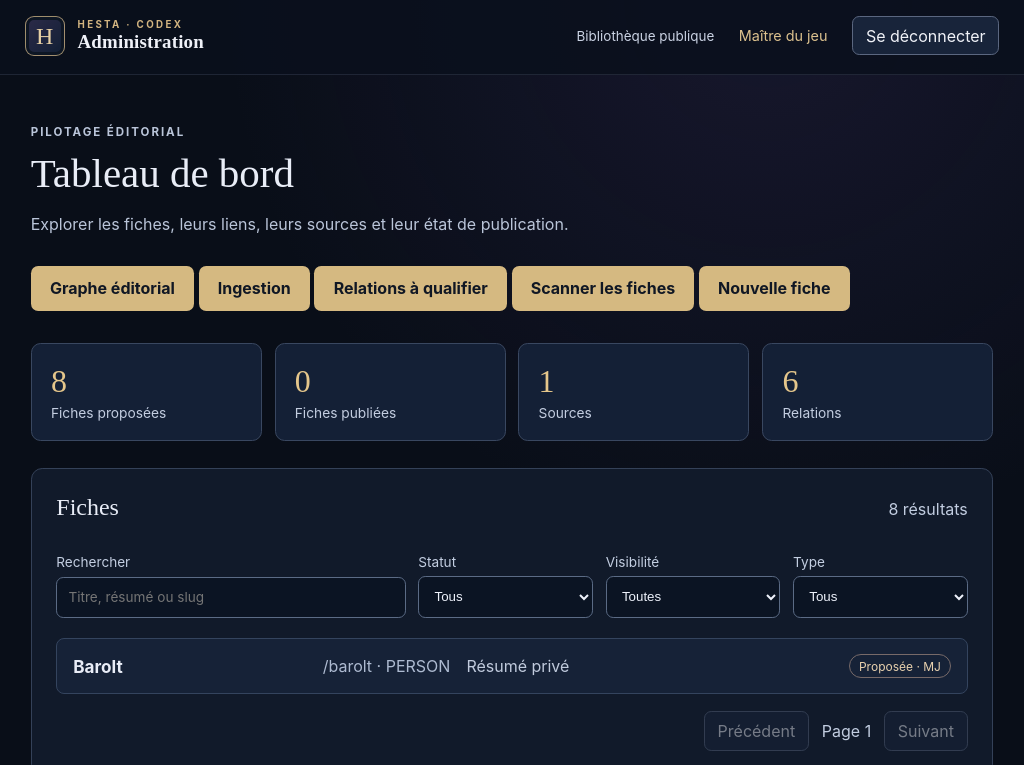
administration en lecture seule › ouvre une fiche privée avec contenu, Source, Evidence, relation et Revision
The image size is (1024, 765).
What coordinates should you click on to do the following:
click the link "Barolt /barolt · PERSON Résumé privé Proposée · MJ"
I would click on:
 (512, 666)
Its box is [56, 638, 968, 694].
(page scrolled)
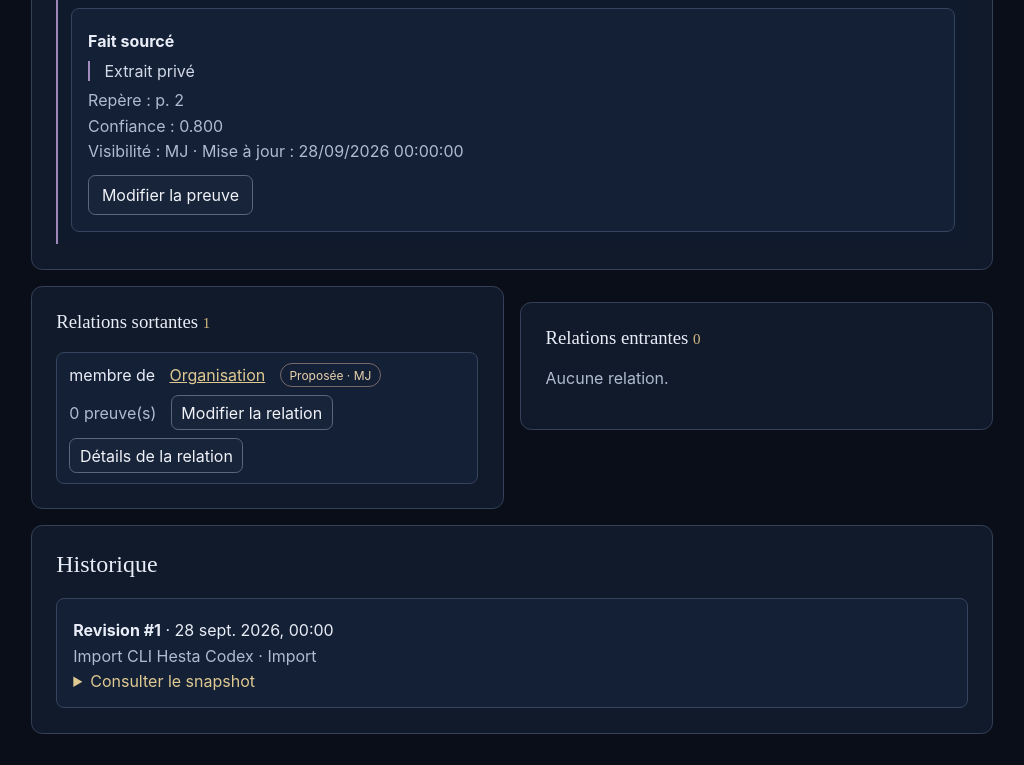
Expected: the text "Fait sourcé" is shown, [88, 31, 174, 51]
Expected: the heading "Relations sortantes 1" is shown, [56, 311, 210, 332]
Expected: the link "Organisation" is shown, [170, 365, 265, 385]
What coordinates should you click on to do the following:
click the heading "Consulter le snapshot"
I would click on:
 (173, 681)
Its box is [90, 671, 255, 691].
(page scrolled)
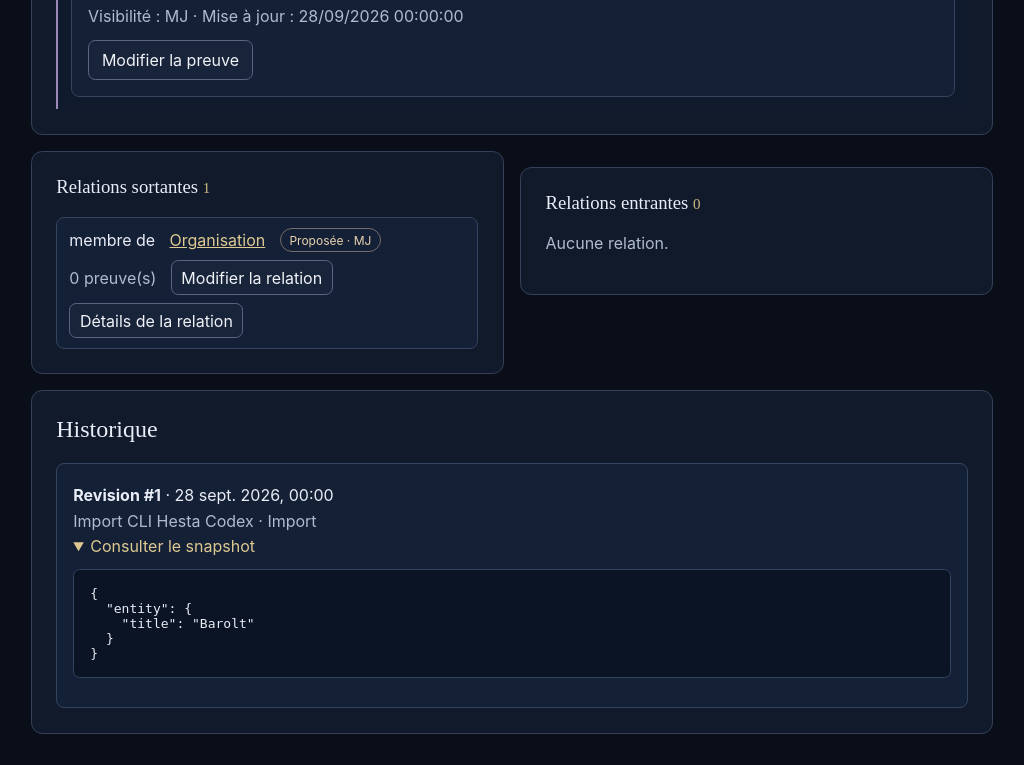
Expected: the text "{ \"entity\": { \"title\": \"Barolt\" } }" is shown, [73, 569, 951, 678]
